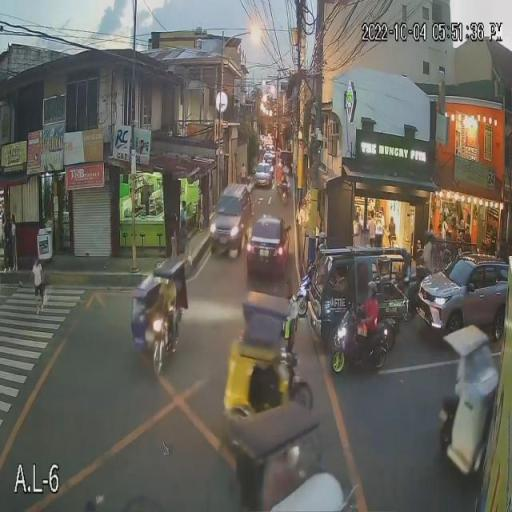helmet: (366, 282, 378, 296), (280, 165, 289, 176)
motorcycle: (329, 309, 392, 377), (287, 264, 318, 318), (279, 181, 291, 204)
rider: (354, 286, 382, 348), (279, 166, 291, 201)
